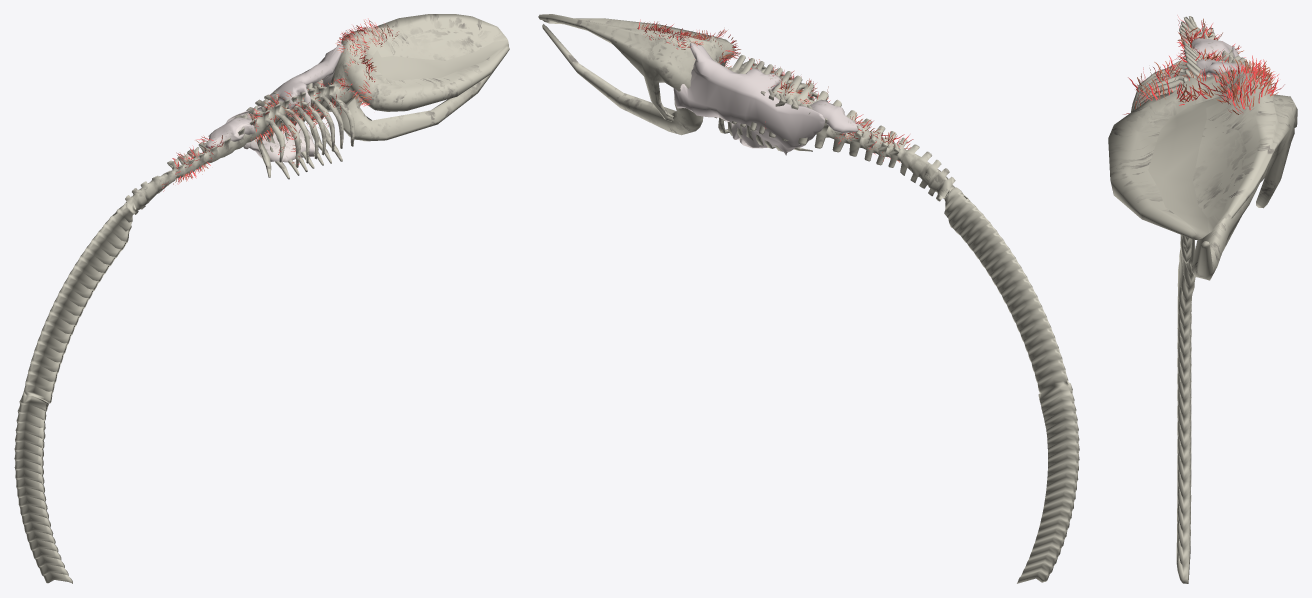
Rendered from whaleSkeletonDream01.fbx.
The picture shows the model from 3 angles, left to right: view 1: azimuth 30°, elevation 25°; view 2: azimuth 150°, elevation 25°; view 3: azimuth 270°, elevation 25°; orthographic projection. The views are drawn at different scales.
Visible parts, largest first — view 1: bowheadWhaleSkel_pose.002, WhaleFlesh_Body.002, zombieWorms_body.002; view 2: bowheadWhaleSkel_pose.002, WhaleFlesh_Body.002, zombieWorms_body.002; view 3: bowheadWhaleSkel_pose.002, zombieWorms_body.002, WhaleFlesh_Body.002.
Boxes of the visible parts, x1,y1,x2,y2 form: bowheadWhaleSkel_pose.002: (14,14,509,583); WhaleFlesh_Body.002: (205,43,343,162); zombieWorms_body.002: (162,18,398,191); bowheadWhaleSkel_pose.002: (538,14,1079,583); WhaleFlesh_Body.002: (673,42,862,155); zombieWorms_body.002: (637,19,913,162); bowheadWhaleSkel_pose.002: (1108,16,1297,583); zombieWorms_body.002: (1123,15,1284,114); WhaleFlesh_Body.002: (1185,38,1254,76).
Bounding box in the file's own units: 49.21 × 43.93 × 9.84.
